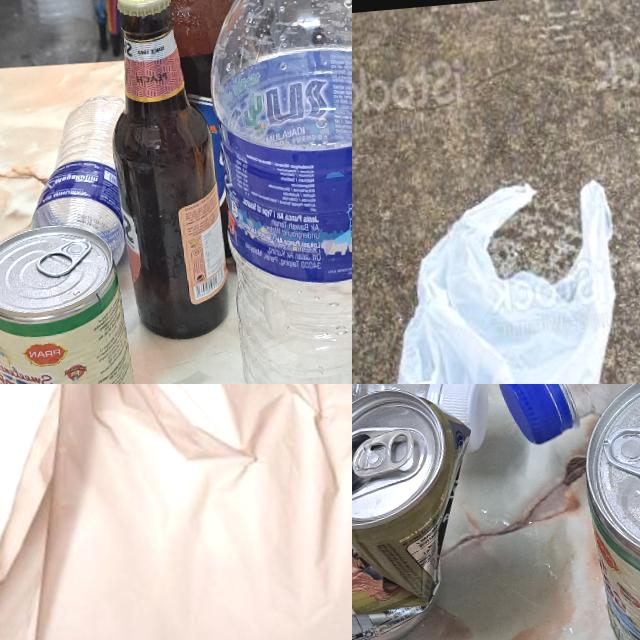aba de lata: (352, 426, 415, 478), (30, 233, 94, 278), (602, 422, 640, 494)
garrafa de vidro: (98, 0, 233, 340), (128, 0, 242, 105)
garrafa plástica: (195, 0, 352, 384), (19, 90, 137, 274), (352, 384, 440, 482)
lata: (352, 384, 489, 640), (0, 215, 142, 384), (574, 384, 640, 640)
sacola plástica: (0, 384, 352, 640), (370, 161, 640, 384)
tampa plástica: (495, 384, 570, 448), (433, 384, 491, 454)
